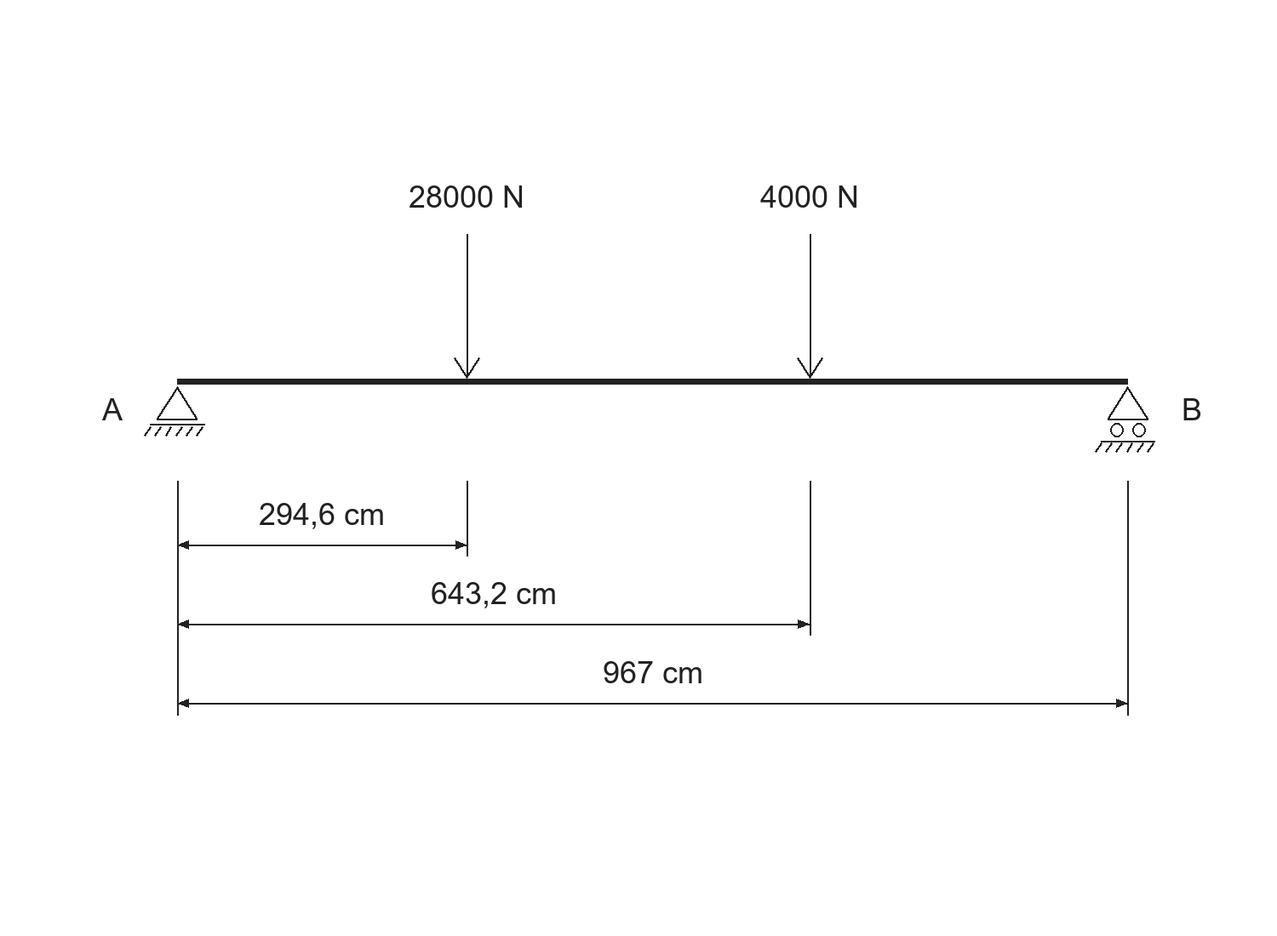pin_support: (144, 386, 205, 437)
point_load: (454, 234, 480, 379), (797, 234, 823, 379)
roller_support: (1095, 386, 1155, 453)
